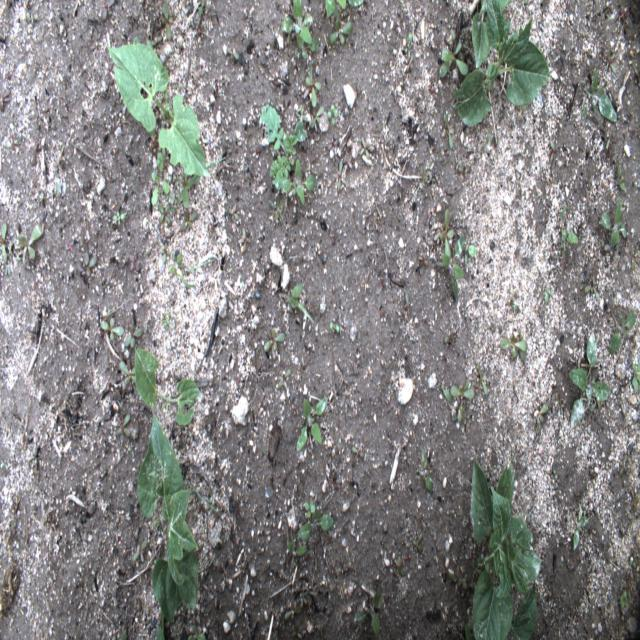crop: (105, 42, 209, 179), (469, 451, 543, 636), (132, 419, 197, 627), (456, 6, 559, 134)
weed: (132, 345, 202, 434), (259, 101, 313, 210), (567, 331, 611, 424), (147, 150, 199, 228), (435, 210, 473, 294), (580, 63, 618, 129), (285, 510, 335, 558), (280, 3, 314, 58), (440, 382, 478, 429), (298, 392, 327, 451), (440, 37, 471, 85), (15, 226, 44, 271), (596, 208, 631, 245), (302, 63, 324, 114), (325, 12, 353, 46), (497, 336, 530, 361), (574, 498, 587, 554), (101, 312, 124, 343), (119, 364, 145, 389), (82, 250, 103, 278)
